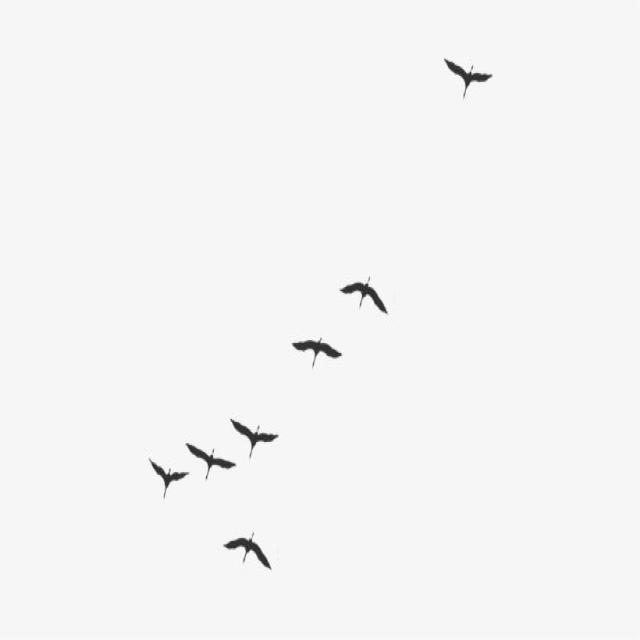bird: (442, 55, 494, 103), (338, 272, 390, 317), (229, 415, 280, 459), (221, 531, 273, 574), (185, 441, 238, 482), (146, 454, 190, 501), (290, 335, 344, 370)
